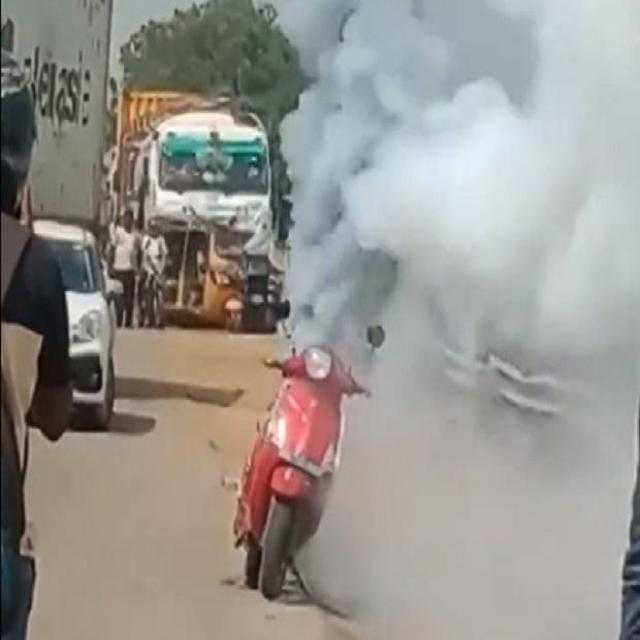car: (34, 220, 121, 428)
motorcycle: (234, 346, 369, 599)
truck: (121, 89, 272, 229)
